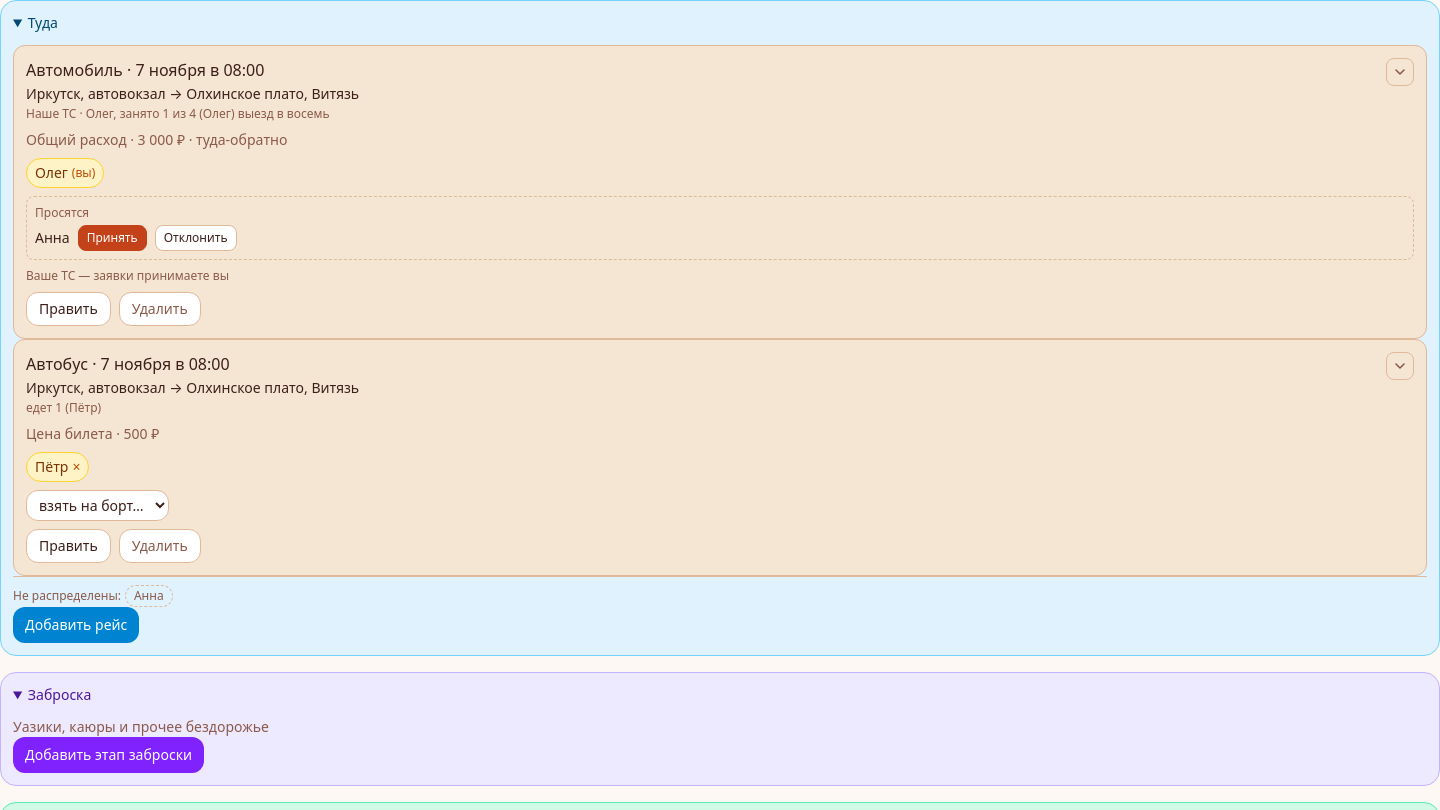
Test: TripTransfer › точки и время обязательны, и без них запроса нет
The width and height of the screenshot is (1440, 810).
Click the button with test id "transfer-add-there": (76,625) [13, 607, 139, 643]
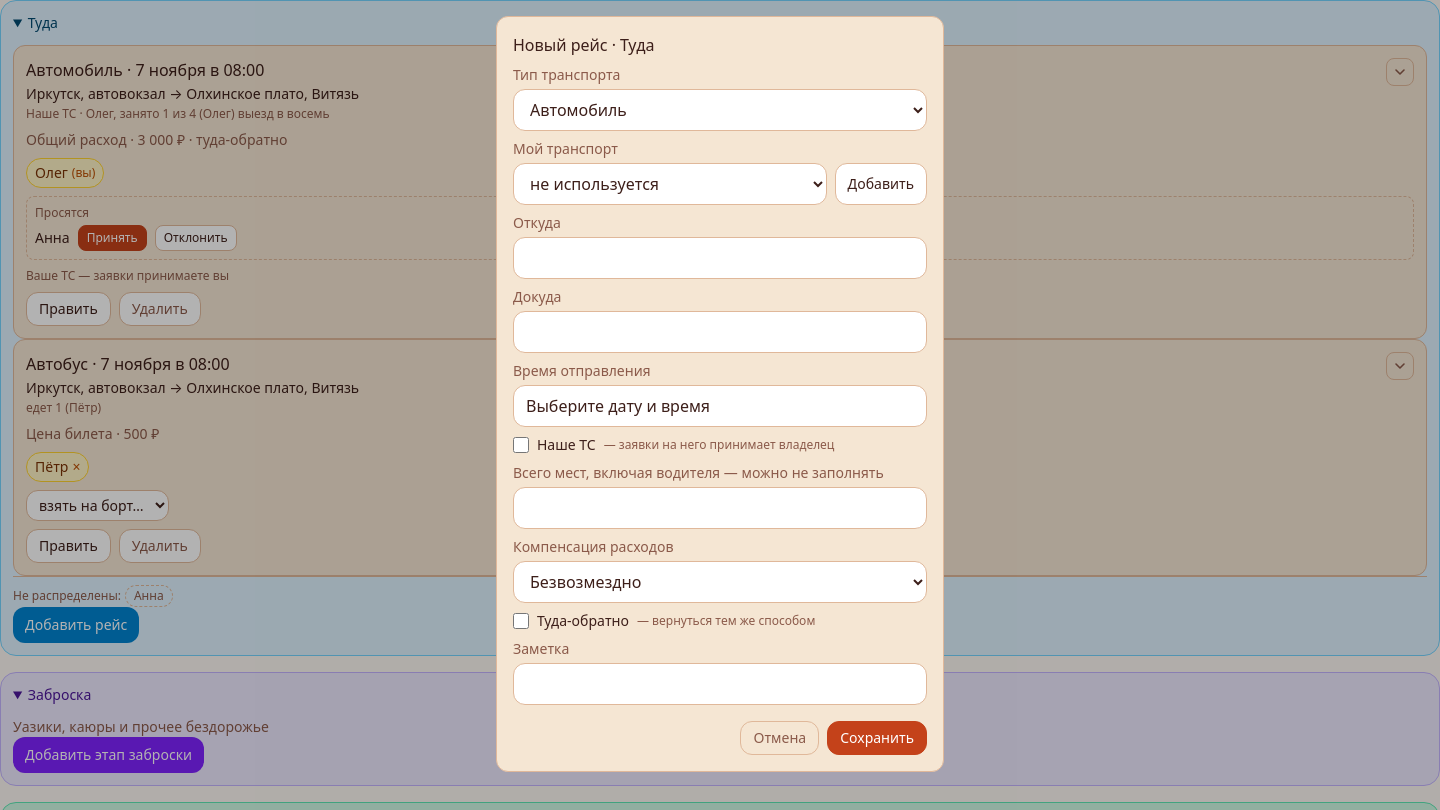
Click the button with test id "transfer-leg-save": (877,738) [827, 721, 927, 755]
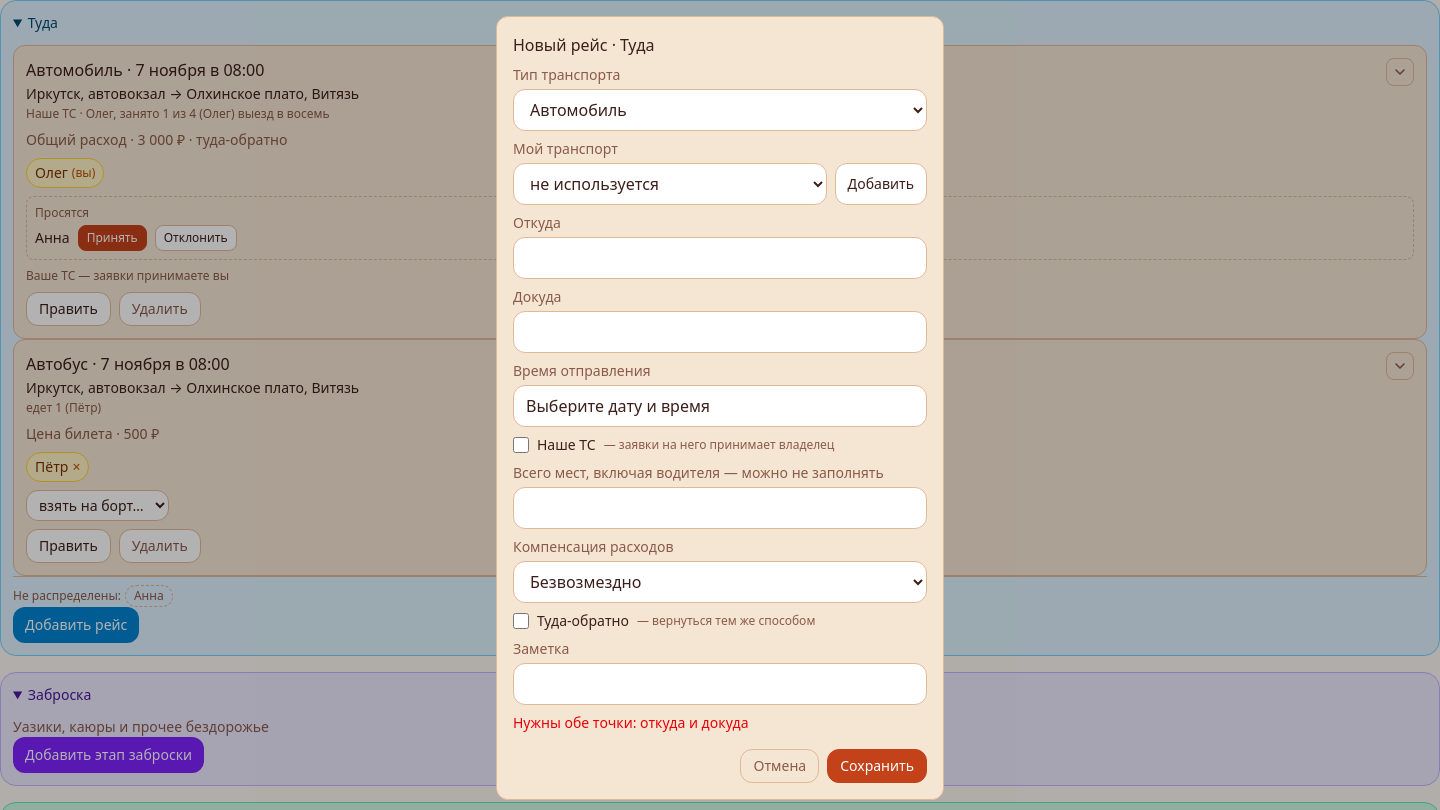
expect the text with test id "transfer-leg-error" shows "откуда и докуда": met, box [513, 713, 748, 732]
In the field with test id "transfer-from-input": (720,258) [513, 237, 927, 279], type "Иркутск"
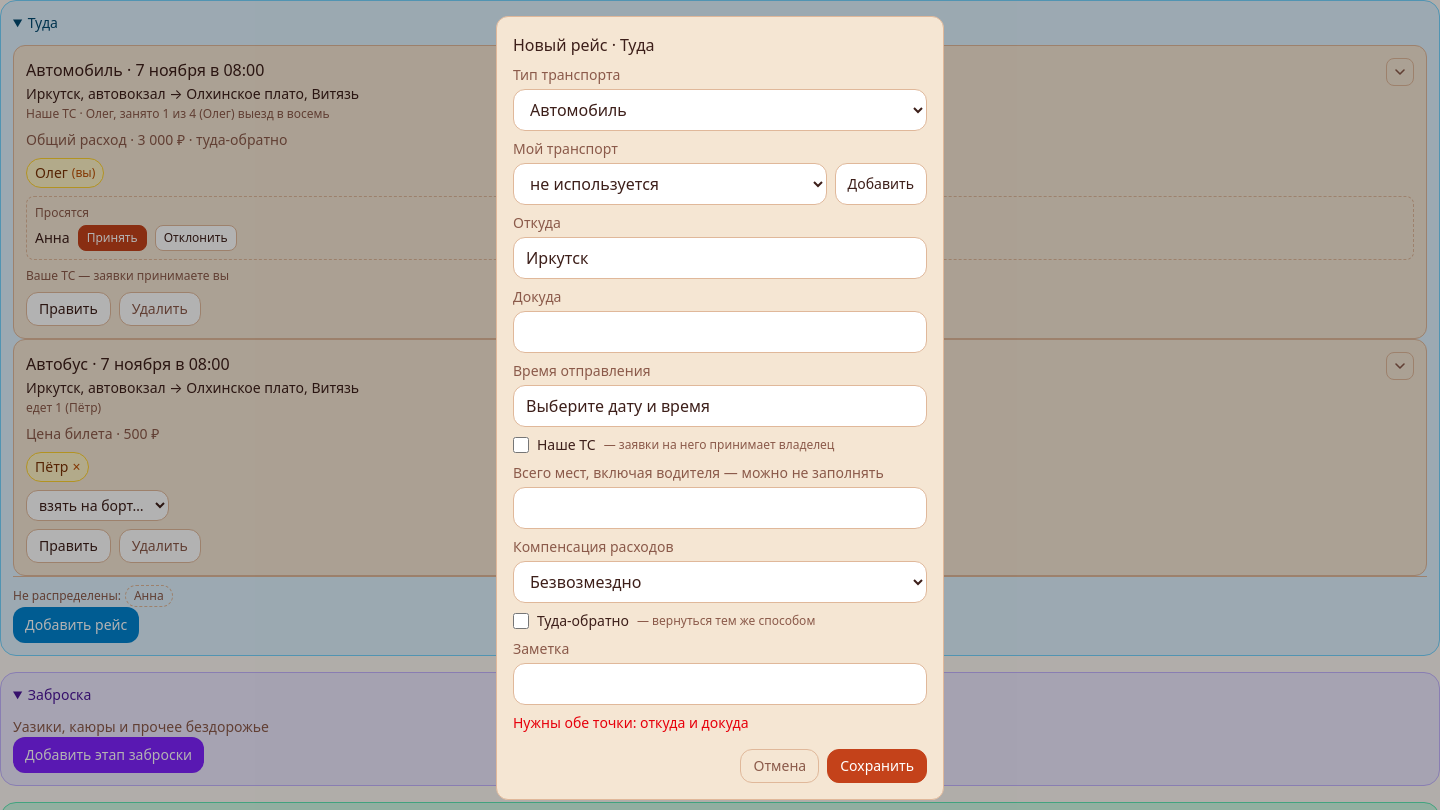
In the field with test id "transfer-to-input": (720,332) [513, 311, 927, 353], type "Витязь"
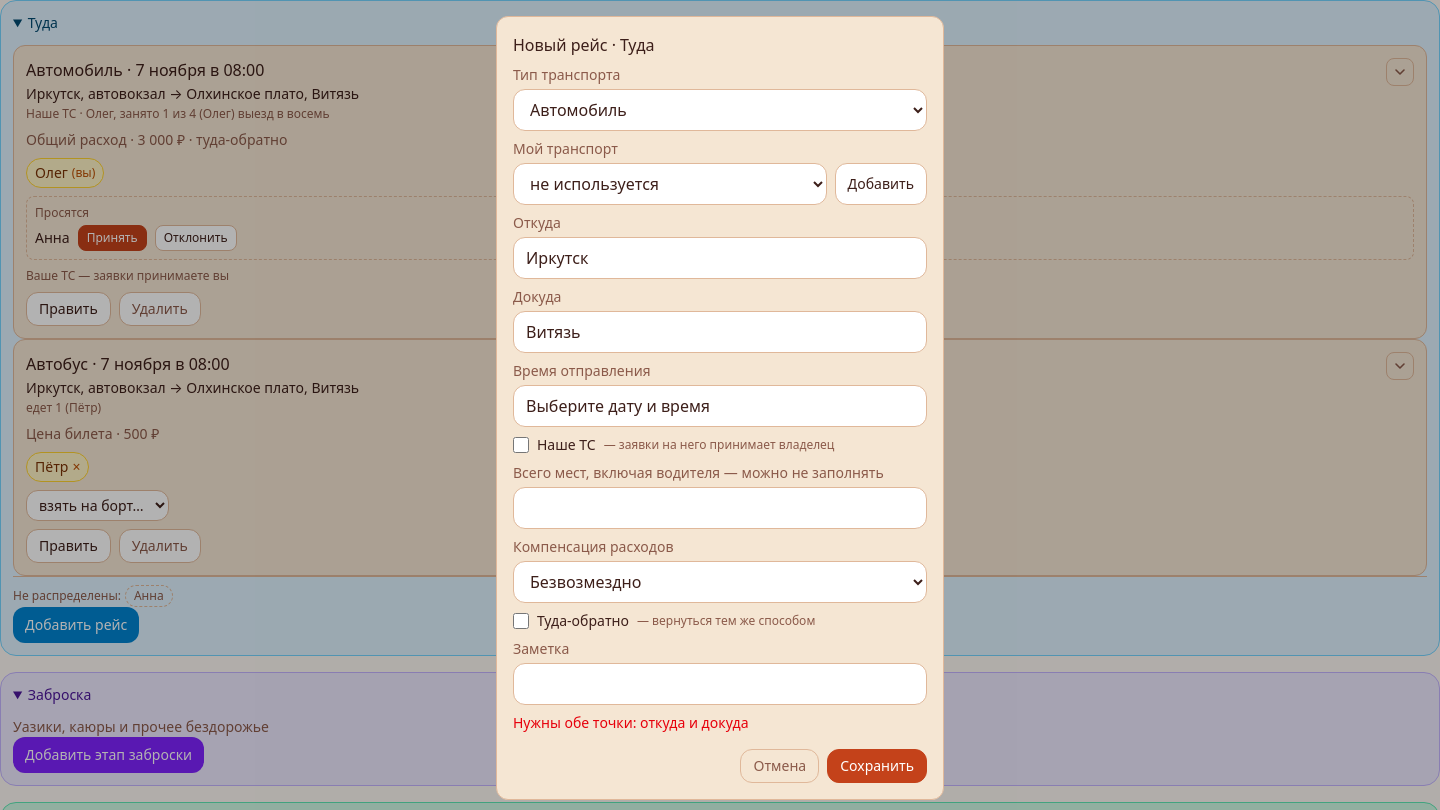
Click the button with test id "transfer-leg-save": (877,766) [827, 749, 927, 783]
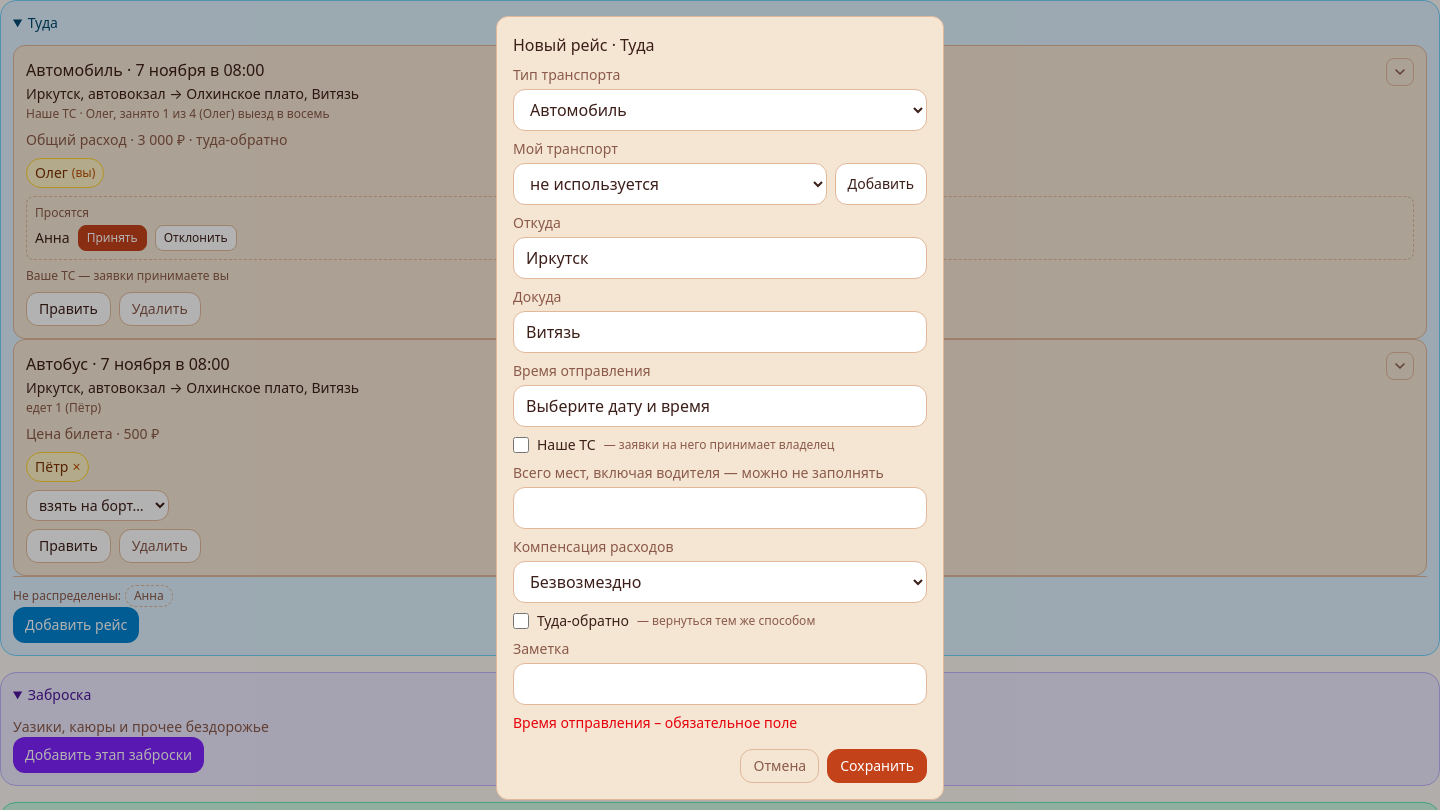
expect the text with test id "transfer-leg-error" reads "Время отправления – обязательное поле": met, box [513, 713, 797, 732]
